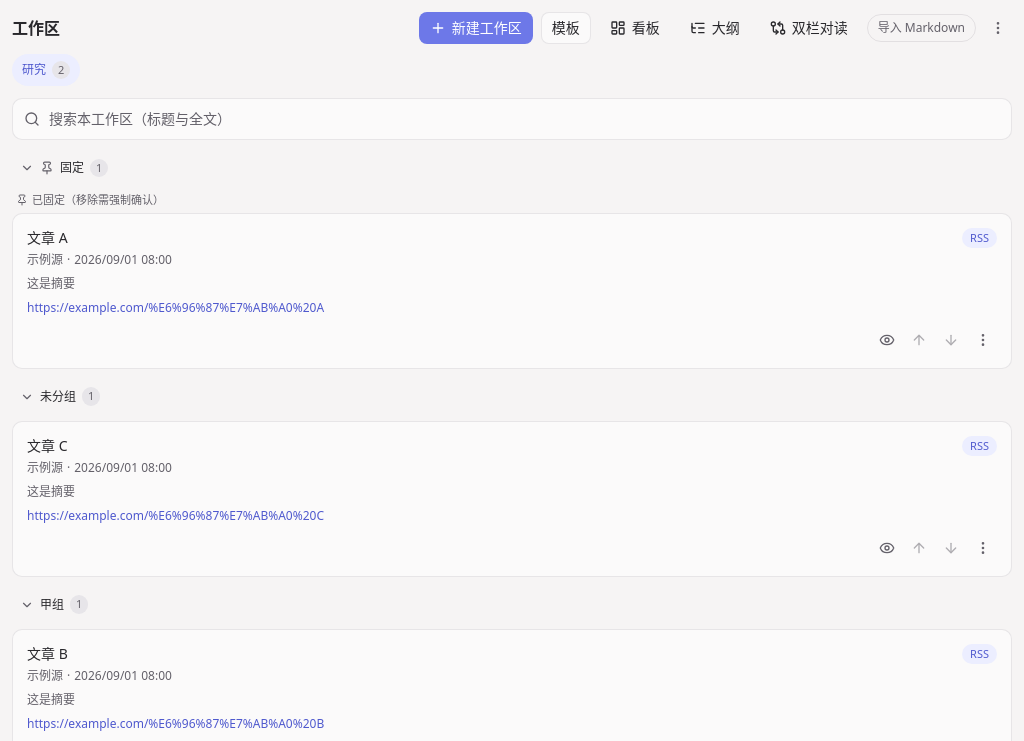
it: N104 最近关闭 › 关闭预览进入最近关闭；恢复 = 重新打开预览
Click the 1st button named "预览" at coordinates (887, 340), box [873,326,901,354]
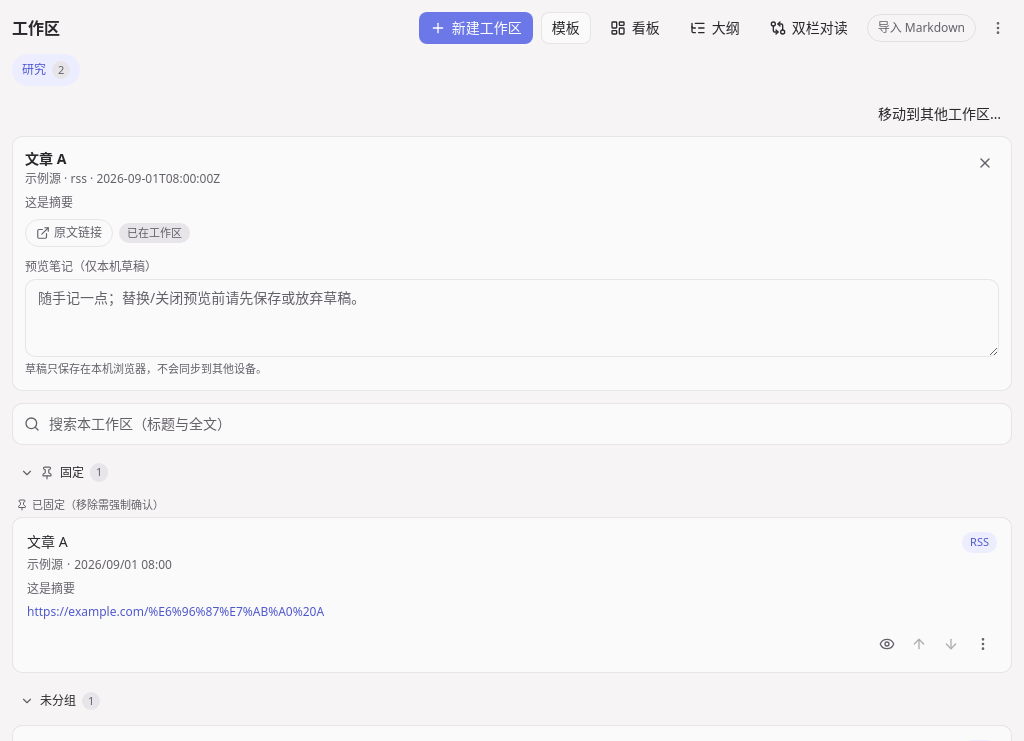
Click the button named "关闭预览" at coordinates (985, 163), box [971,149,999,177]
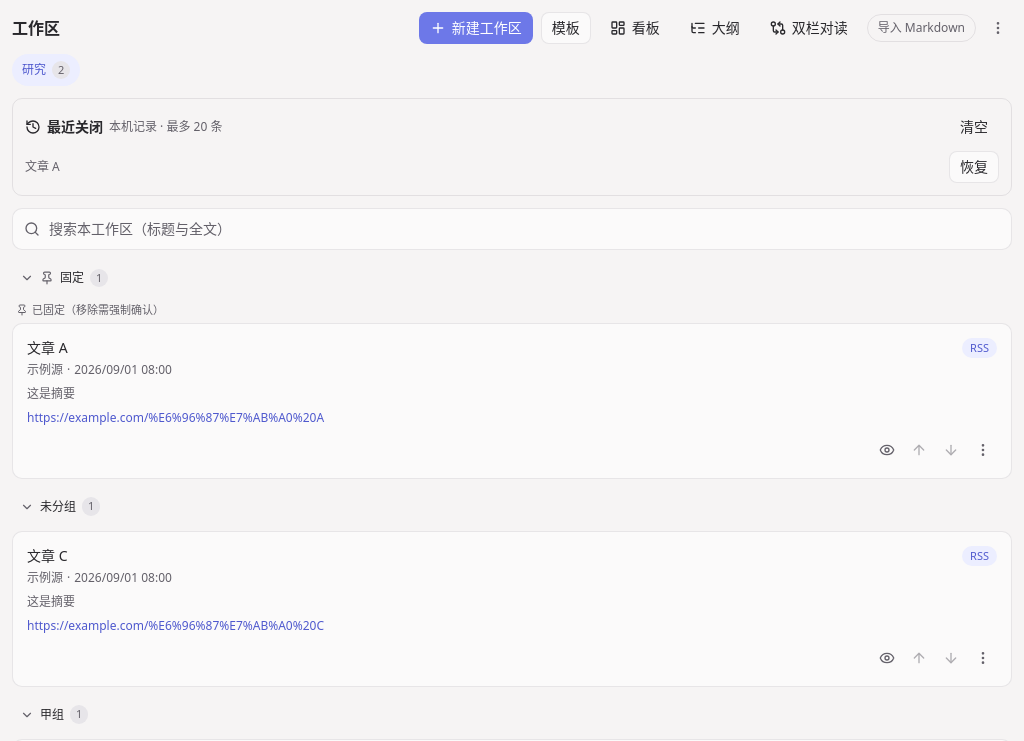
Expected: the text "文章 A" is shown, [25,158,60,175]
Expected: the element "内容预览" is gone
Click the button "恢复" at coordinates (974, 167), box [949,151,999,183]
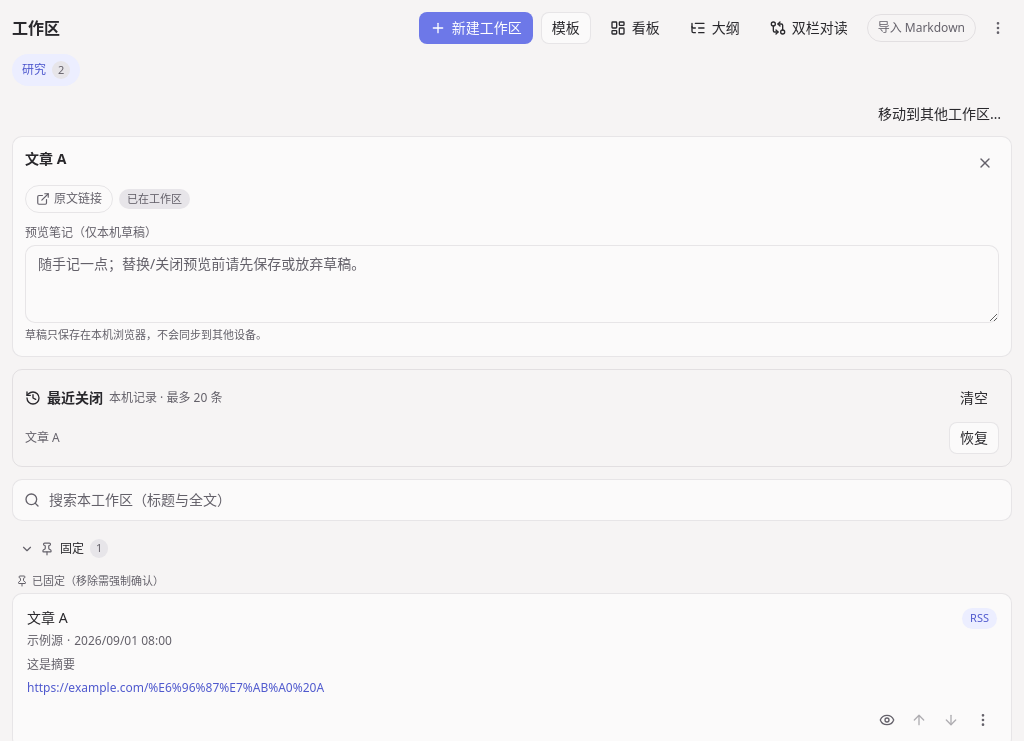
Expected: the 1st heading "文章 A" is shown, [25,149,66,168]
